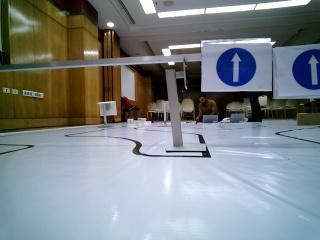straight: (202, 40, 272, 90), (274, 48, 320, 97)
